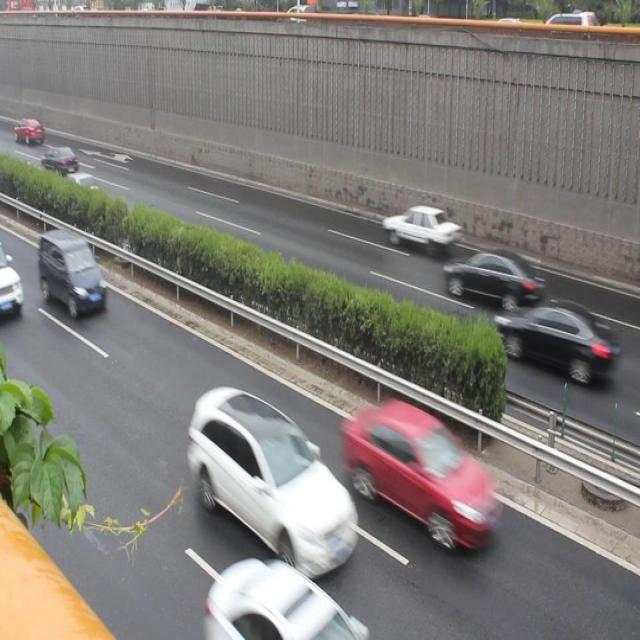car: (185, 380, 362, 576), (340, 396, 503, 547), (202, 563, 374, 640), (497, 301, 608, 389), (442, 242, 542, 312), (382, 198, 454, 265), (62, 168, 104, 208), (40, 143, 81, 178)
truck: (36, 226, 109, 320)
